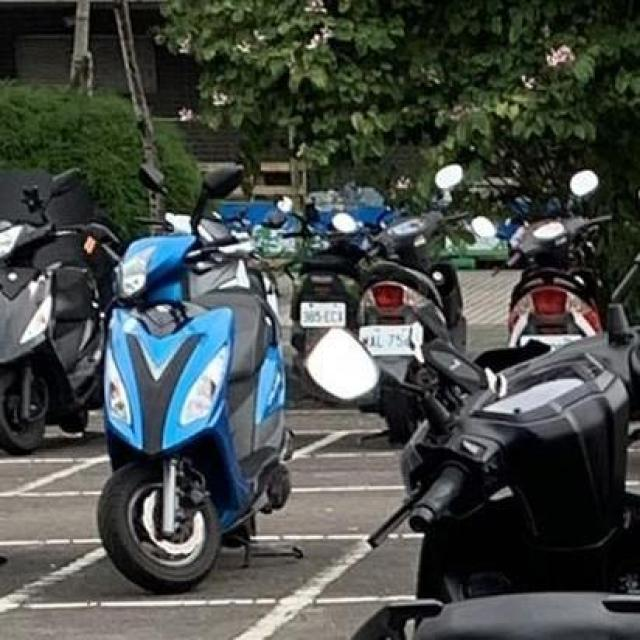W: (298, 299, 350, 332)
